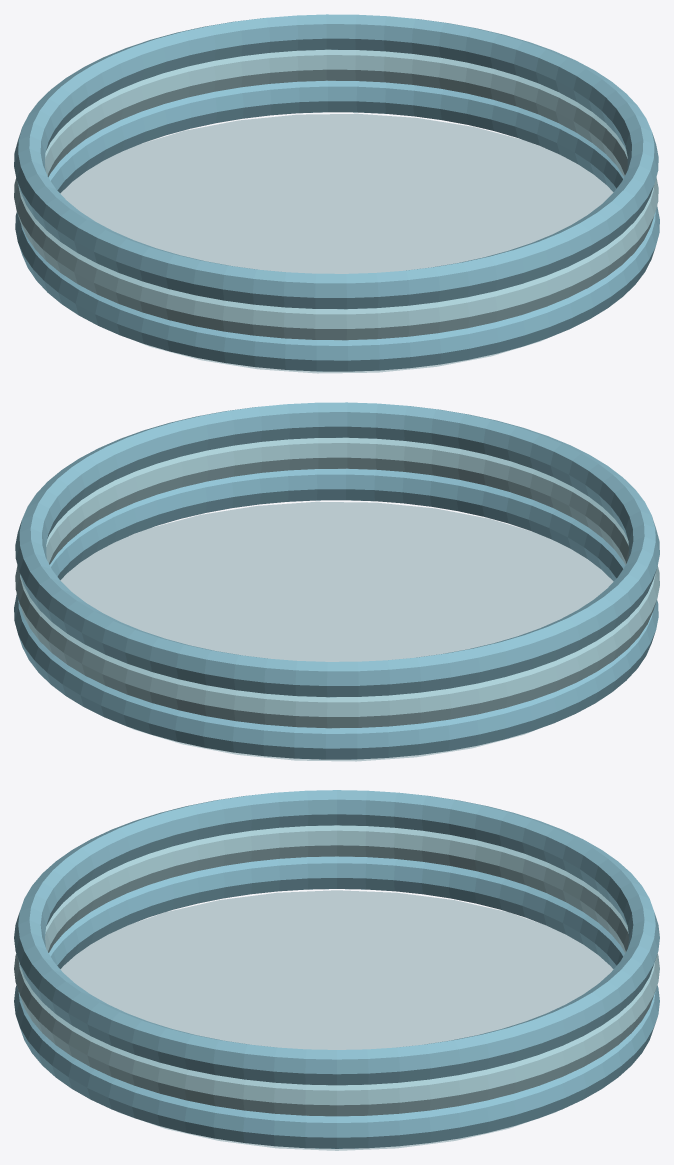
Rendered from KiddiePool.fbx.
3 renders of one model, top to bottom at view 1: azimuth 30°, elevation 25°; view 2: azimuth 150°, elevation 25°; view 3: azimuth 270°, elevation 25°, orthographic.
Visible parts, largest first — view 1: Circle.024; view 2: Circle.024; view 3: Circle.024.
Boxes of the visible parts, <box> form: Circle.024: <box>14,14,659,373</box>; Circle.024: <box>14,402,659,761</box>; Circle.024: <box>14,790,659,1150</box>.
Size of the model in its own units: 258 by 43.97 by 258.
